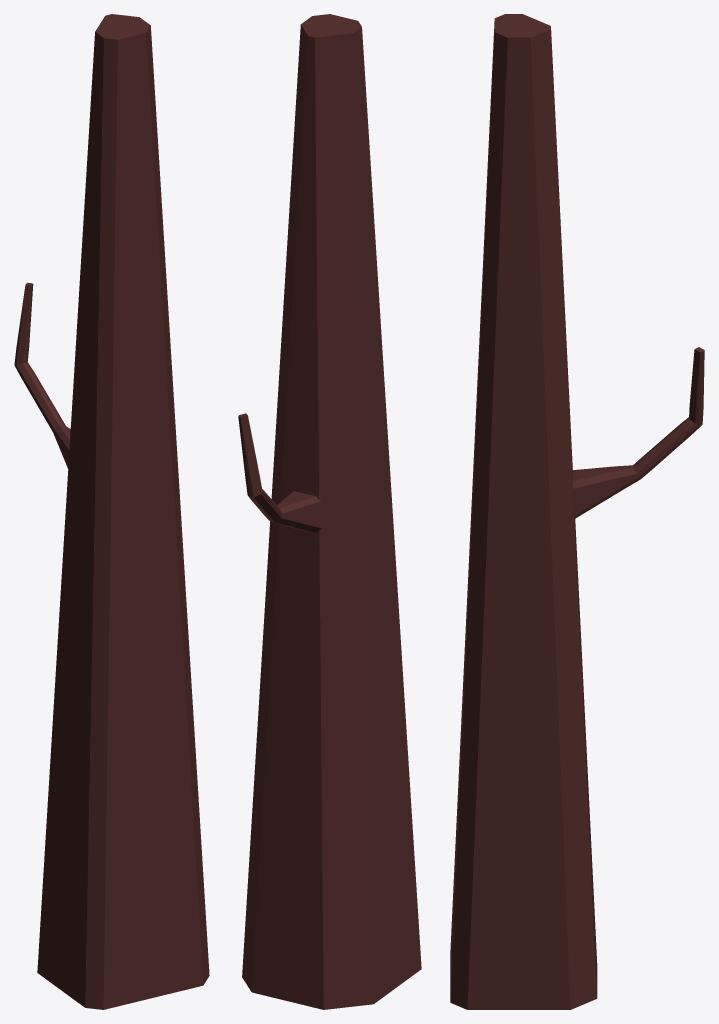
Rendered from treebark.fbx.
The picture shows the model from 3 angles, left to right: view 1: azimuth 30°, elevation 25°; view 2: azimuth 150°, elevation 25°; view 3: azimuth 270°, elevation 25°; orthographic projection.
Visible parts, largest first — view 1: Cube.002; view 2: Cube.002; view 3: Cube.002.
Part boxes in pixels (<box>): Cube.002: <box>14,14,209,1009</box>; Cube.002: <box>238,14,421,1009</box>; Cube.002: <box>450,14,704,1009</box>.
Size of the model in its own units: 65.44 by 469 by 113.
